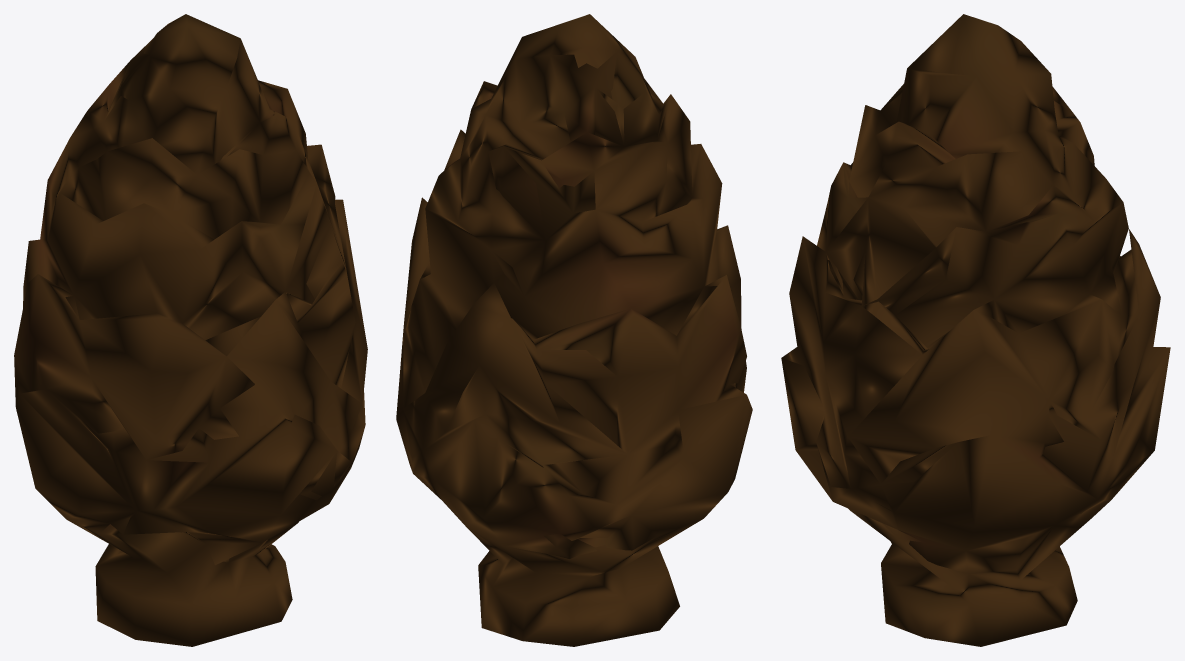
File: gen3d-pinecone-lod1.glb
3 renders of one model, left to right at view 1: azimuth 30°, elevation 25°; view 2: azimuth 150°, elevation 25°; view 3: azimuth 270°, elevation 25°, orthographic.
Visible parts, largest first — view 1: part_0; view 2: part_0; view 3: part_0.
Boxes of the visible parts, x1,y1,x2,y2 form: part_0: [14, 14, 367, 646]; part_0: [396, 14, 752, 646]; part_0: [781, 14, 1170, 646].
Size of the model in its own units: 0.5962 by 0.9976 by 0.6025.
